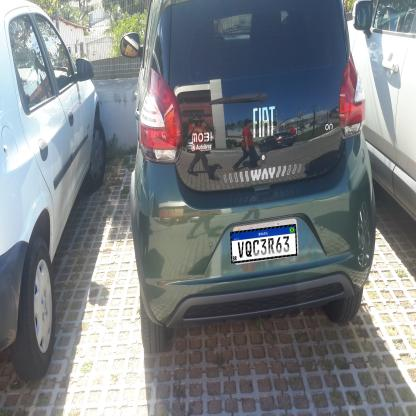PlacaM: (230, 224, 297, 264)
